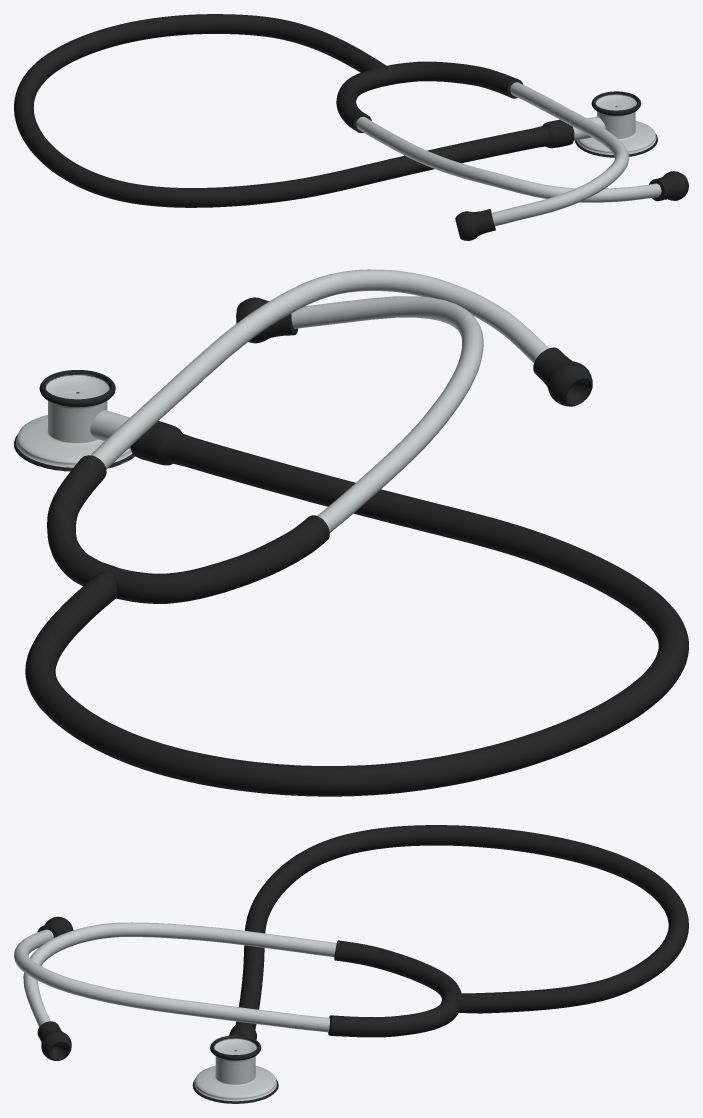
File: stethoscope-compressed.glb
The picture shows the model from 3 angles, top to bottom: view 1: azimuth 30°, elevation 25°; view 2: azimuth 150°, elevation 25°; view 3: azimuth 270°, elevation 25°; orthographic projection. The views are drawn at different scales.
Visible parts, largest first — view 1: Stethoscope.003; view 2: Stethoscope.003; view 3: Stethoscope.003.
Boxes of the visible parts, x1=… form: Stethoscope.003: x1=14, y1=14, x2=688, y2=240; Stethoscope.003: x1=14, y1=269, x2=688, y2=796; Stethoscope.003: x1=14, y1=825, x2=688, y2=1103.
Bounding box in the file's own units: 0.2589 × 0.0334 × 0.2897.
Materials: 1 (1 with a texture image).
